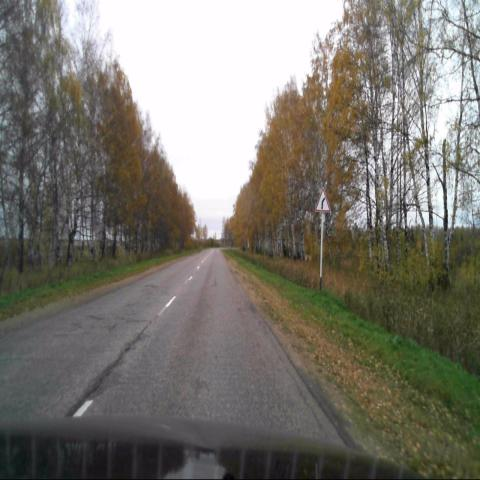1_11: (314, 187, 331, 213)
